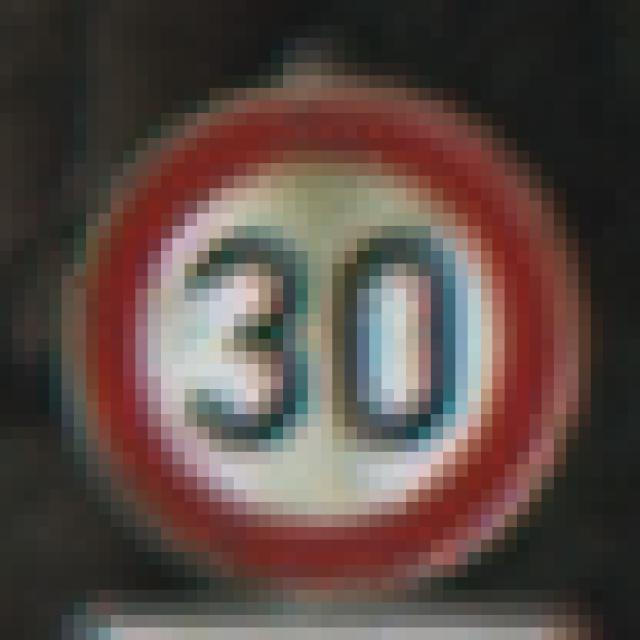Speed Limit -30-: (55, 56, 560, 558)
